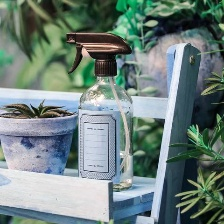bottle: (75, 69, 136, 194)
